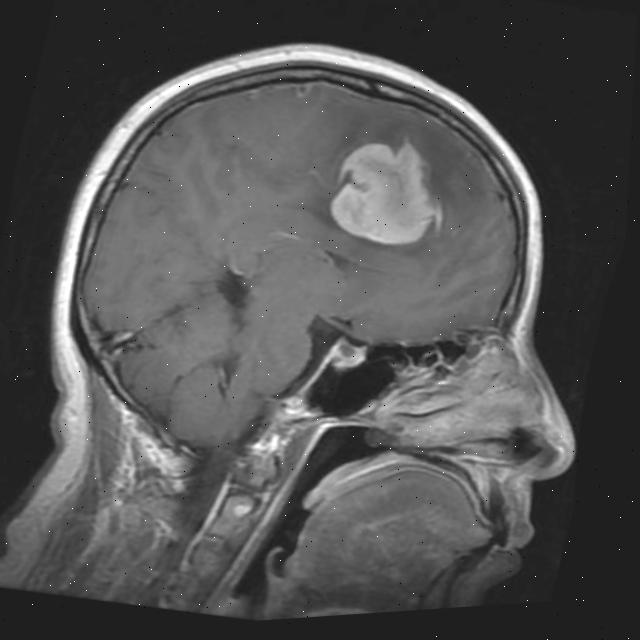Meningioma: (318, 121, 464, 261)
Pituitary: (327, 335, 372, 377)
